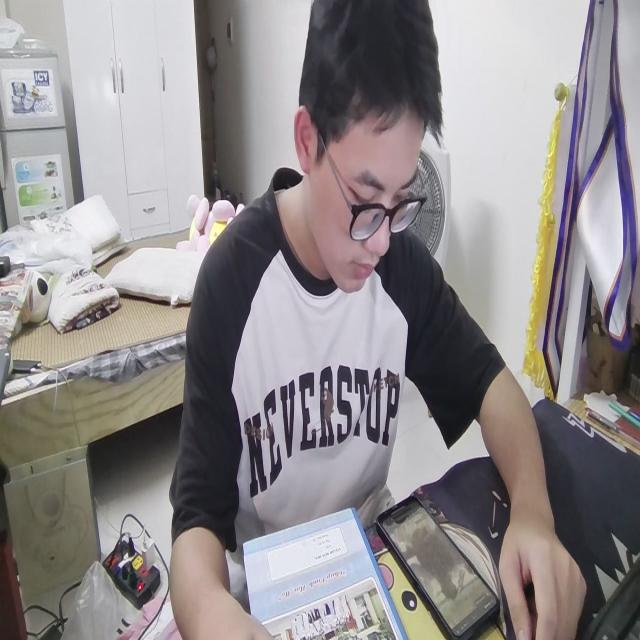book: (240, 506, 407, 640)
phone: (383, 486, 495, 640)
student: (164, 2, 592, 640)
